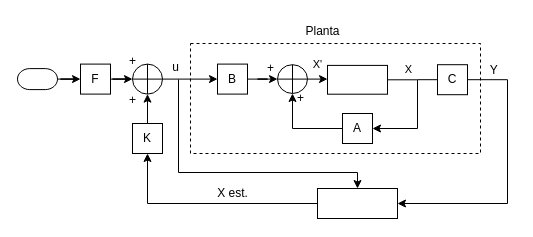
This 533x237 diagram has some shape labels left out. Each missing label, with the centre of its shape:
"Integrador" belongs at point 357,79.
"Observador" belongs at point 357,203.
"Ref." belongs at point 37,79.
